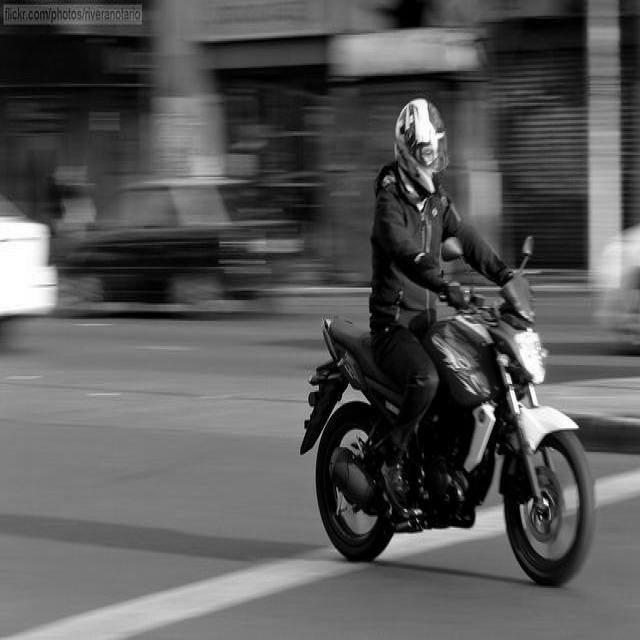vehicle: (297, 234, 597, 584), (51, 175, 313, 305), (0, 195, 58, 320), (592, 224, 640, 334)
